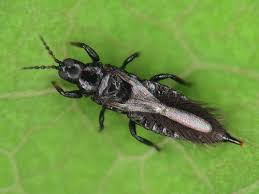Phlaeothripidae: (21, 34, 244, 151)
